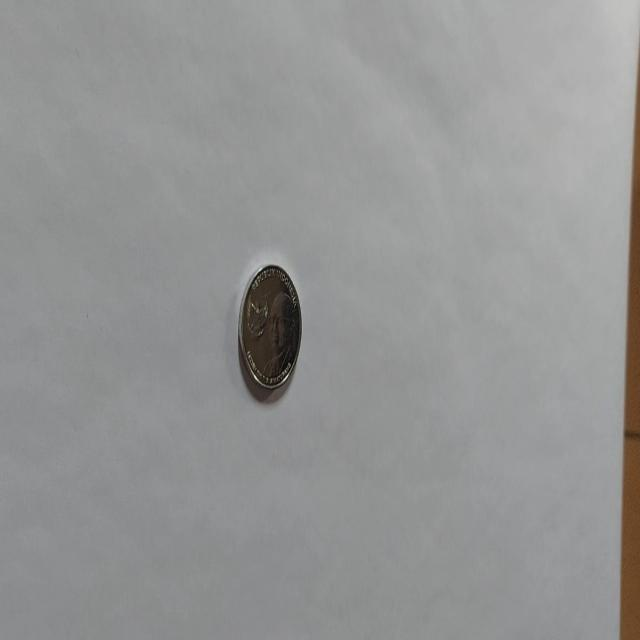lima ratus rupiah: (237, 262, 303, 393)
